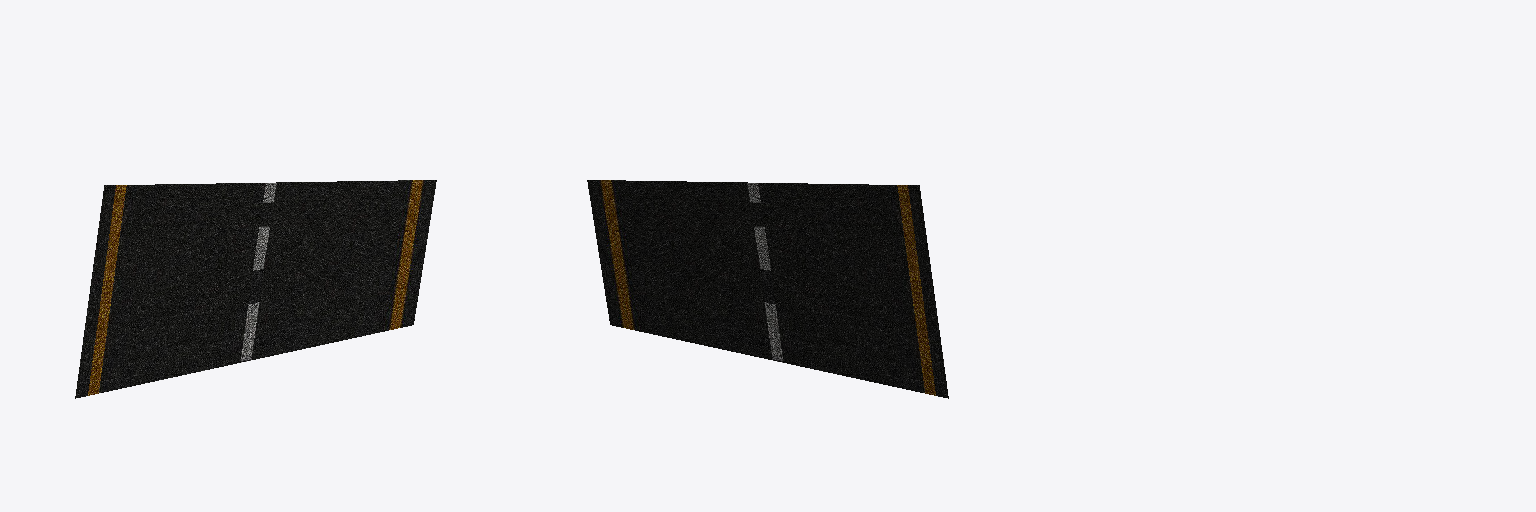
The picture shows the model from 3 angles: view 1: azimuth 30°, elevation 25°; view 2: azimuth 150°, elevation 25°; view 3: azimuth 270°, elevation 25°; orthographic projection.
Parts seen in each view (by area): view 1: section.006_Plane.007; view 2: section.006_Plane.007; view 3: none.
Part boxes in pixels (left/top/right/bottom): section.006_Plane.007: left=75, top=180, right=436, bottom=398; section.006_Plane.007: left=587, top=180, right=948, bottom=398.
Size of the model in its own units: 3.18 by 1.81 by 0.
Materials: 1 (1 with a texture image).